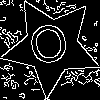O: (26, 21, 73, 75)
